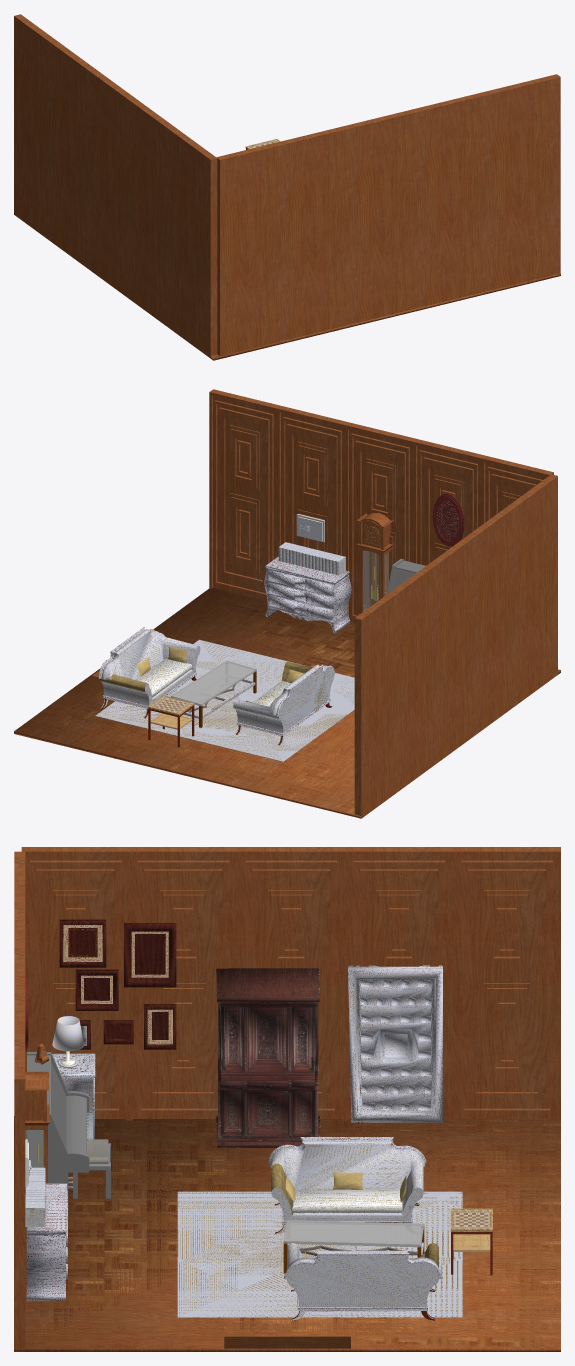
The model's file is study.glb.
The picture shows the model from 3 angles, top to bottom: view 1: azimuth 30°, elevation 25°; view 2: azimuth 150°, elevation 25°; view 3: azimuth 270°, elevation 25°; orthographic projection. The views are drawn at different scales.
Bounding box in the file's own units: 5.64 × 3.08 × 5.61.
70 materials, 47 textured.
